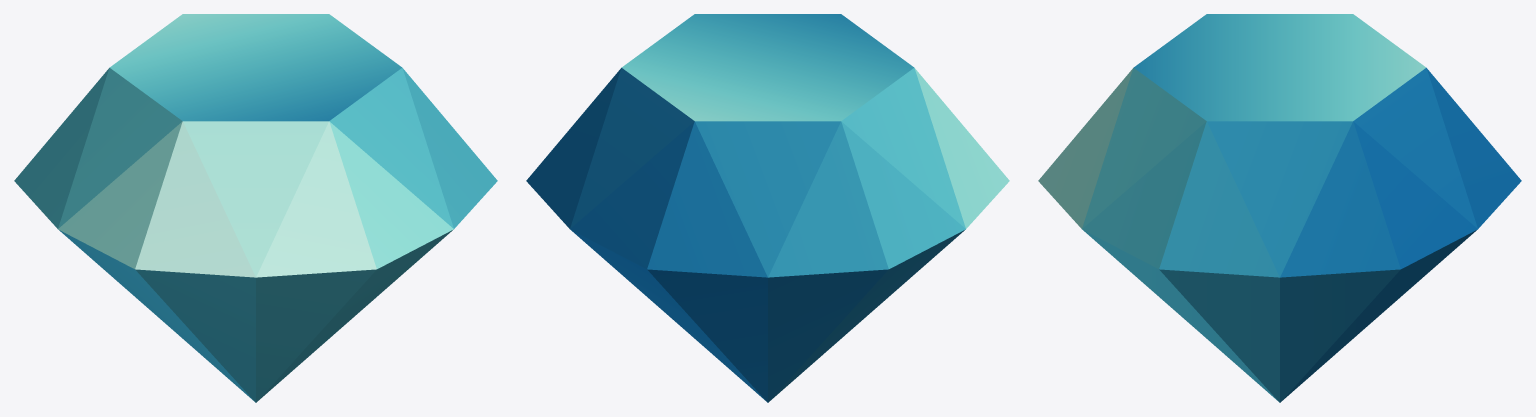
File: Diamond_03.glb
3 renders of one model, left to right at view 1: azimuth 30°, elevation 25°; view 2: azimuth 150°, elevation 25°; view 3: azimuth 270°, elevation 25°, orthographic.
Visible parts, largest first — view 1: Diamond_03; view 2: Diamond_03; view 3: Diamond_03.
Part boxes in pixels (box(x1,y1,x2,y2)): Diamond_03: box(14, 14, 497, 402); Diamond_03: box(526, 14, 1009, 402); Diamond_03: box(1038, 14, 1521, 402).
Size of the model in its own units: 0.5363 by 0.4337 by 0.567.
Materials: 1 (1 with a texture image).
